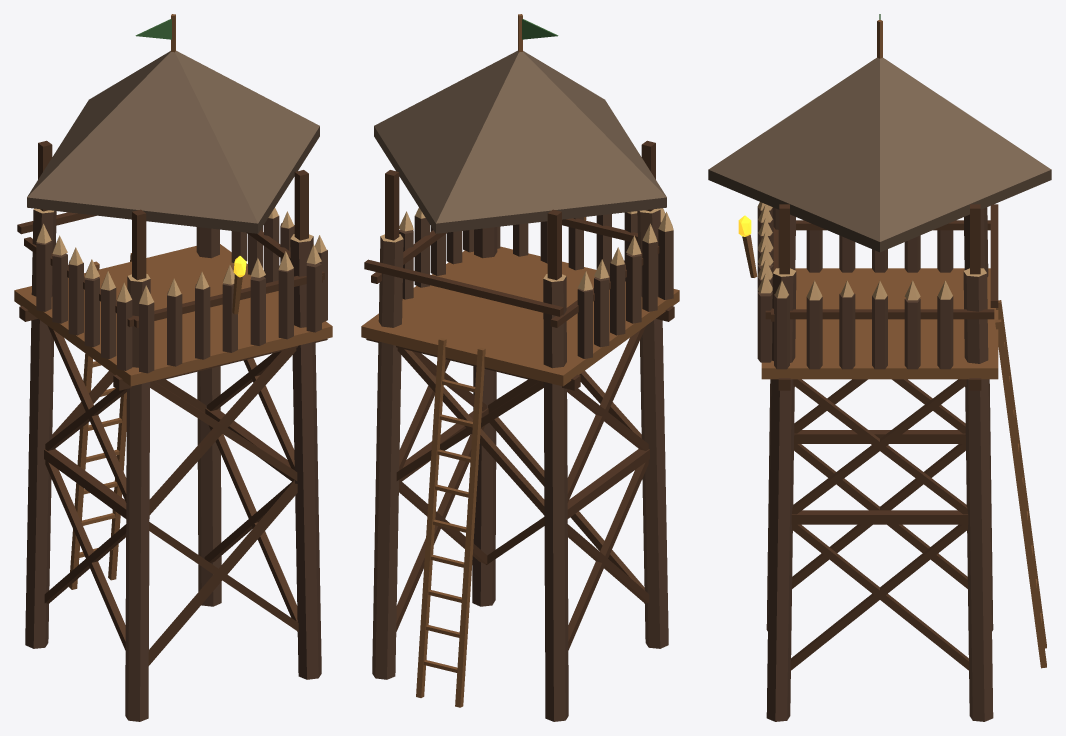
The model's file is Palisade_Wachturm.fbx.
The picture shows the model from 3 angles, left to right: view 1: azimuth 30°, elevation 25°; view 2: azimuth 150°, elevation 25°; view 3: azimuth 270°, elevation 25°; orthographic projection.
Visible parts, largest first — view 1: Palisade_Wachturm; view 2: Palisade_Wachturm; view 3: Palisade_Wachturm.
Part boxes in pixels (<box>): Palisade_Wachturm: <box>14,14,332,721</box>; Palisade_Wachturm: <box>361,14,679,721</box>; Palisade_Wachturm: <box>708,14,1051,721</box>.
Bounding box in the file's own units: 4.5 × 9.45 × 4.5.
